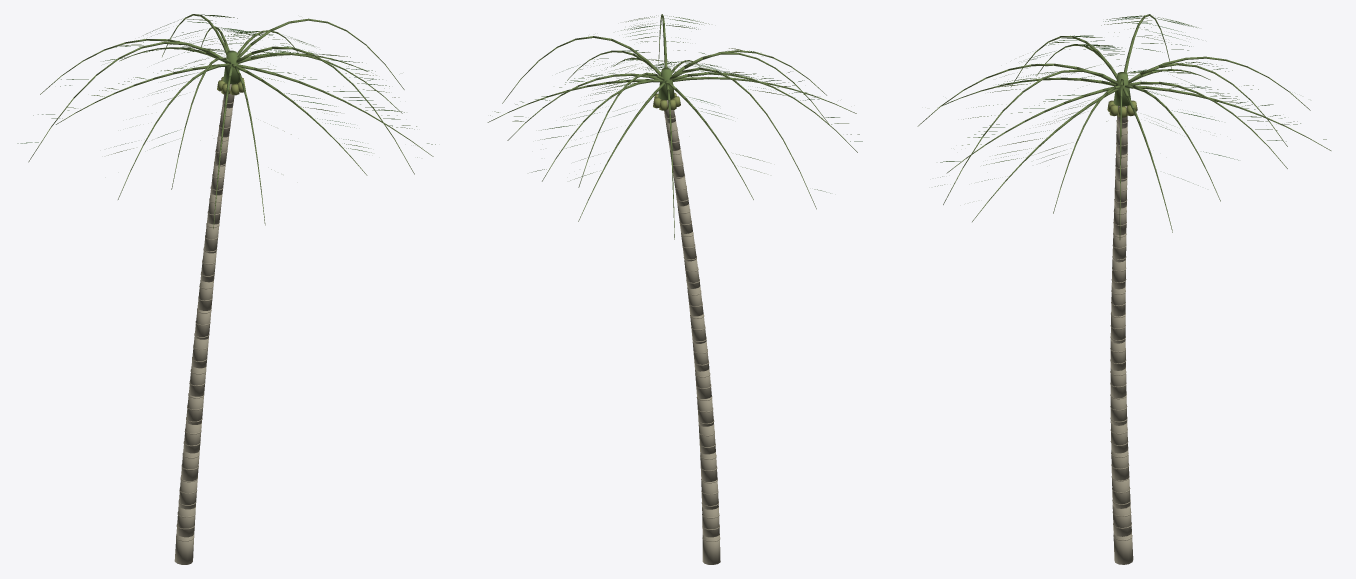
Rendered from coconut_palm.glb.
3 views of the same model, side by side, from view 1: azimuth 30°, elevation 25°; view 2: azimuth 150°, elevation 25°; view 3: azimuth 270°, elevation 25° (orthographic). The views are drawn at different scales.
Visible parts, largest first — view 1: coconut_palm; view 2: coconut_palm; view 3: coconut_palm.
Part boxes in pixels (x1,y1,x2,y2): coconut_palm: (17, 14, 435, 564); coconut_palm: (487, 14, 862, 564); coconut_palm: (917, 14, 1331, 564).
Bounding box in the file's own units: 9.17 × 12.26 × 9.19.
